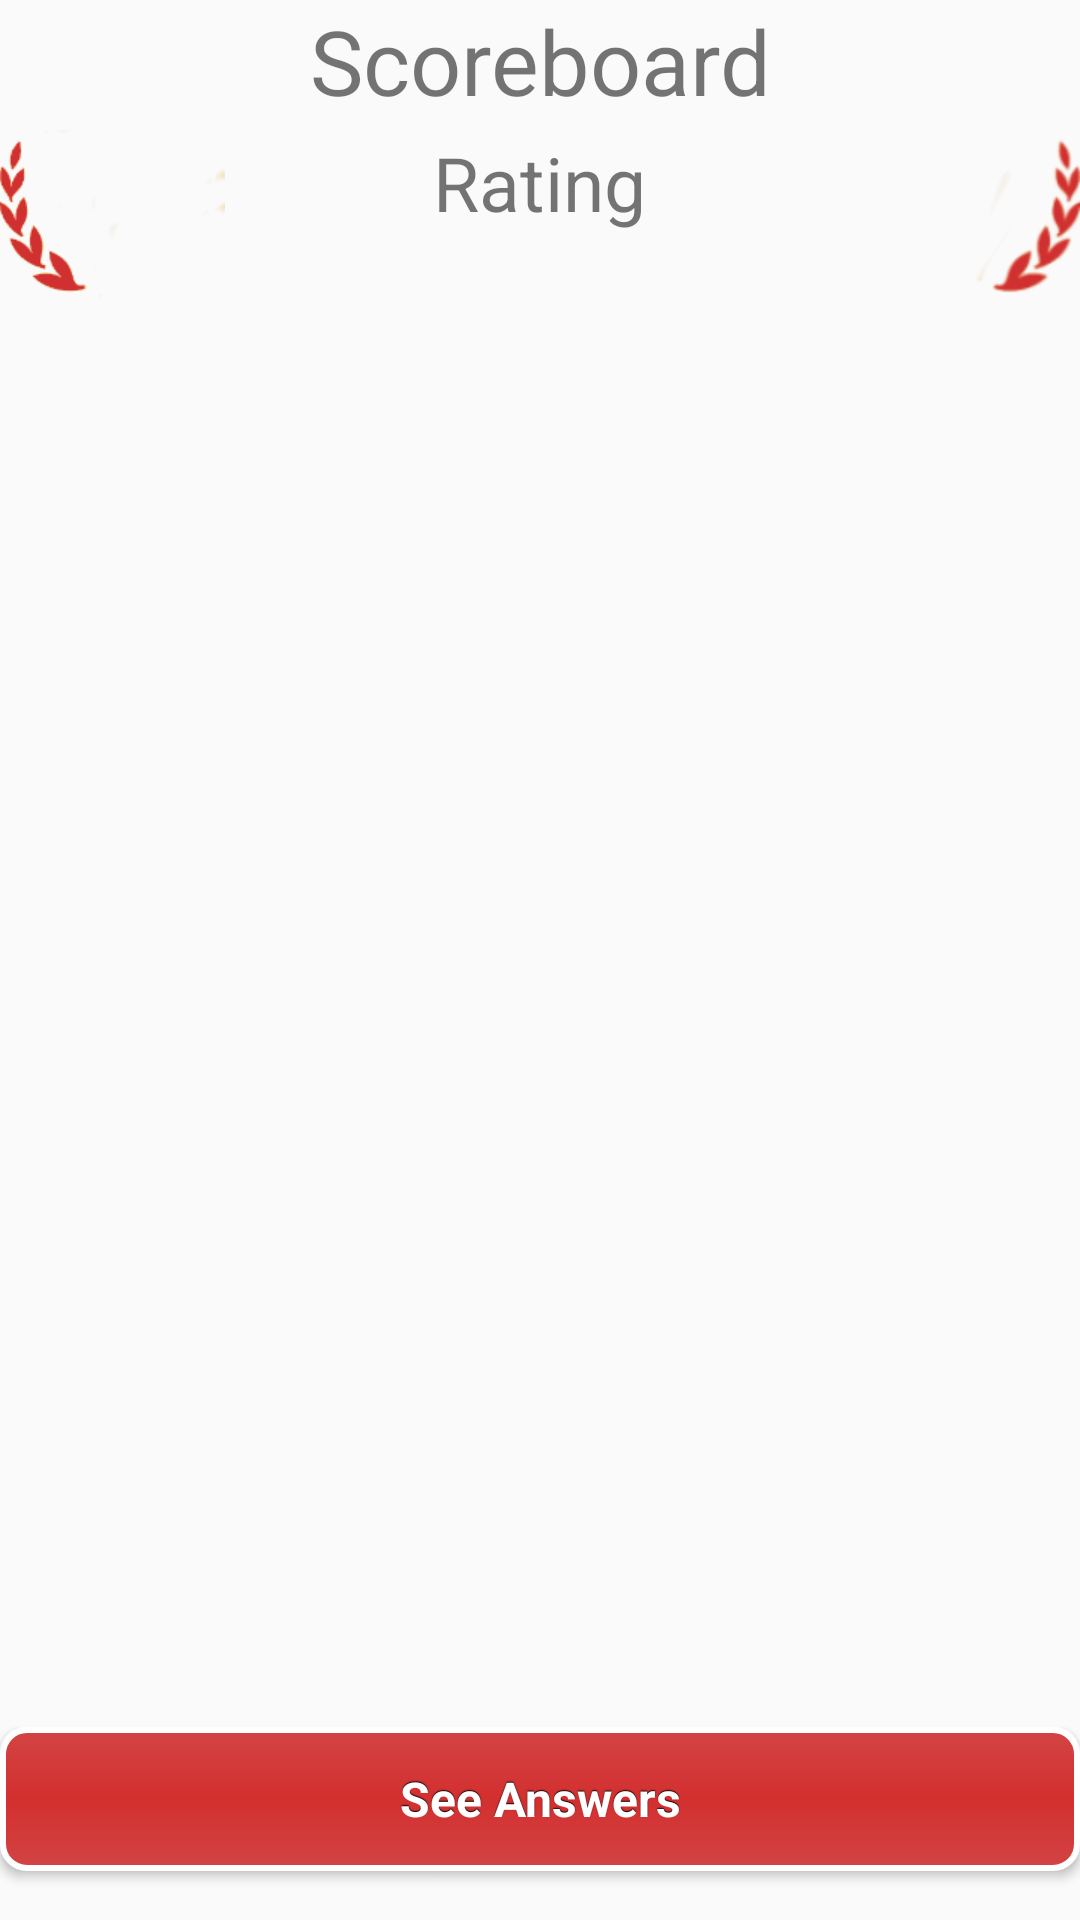

Screen size 1080*1920. Icon name, then its box in pixels as (x1, y1, x2, y2):
featherright: (978, 141, 1080, 292)
